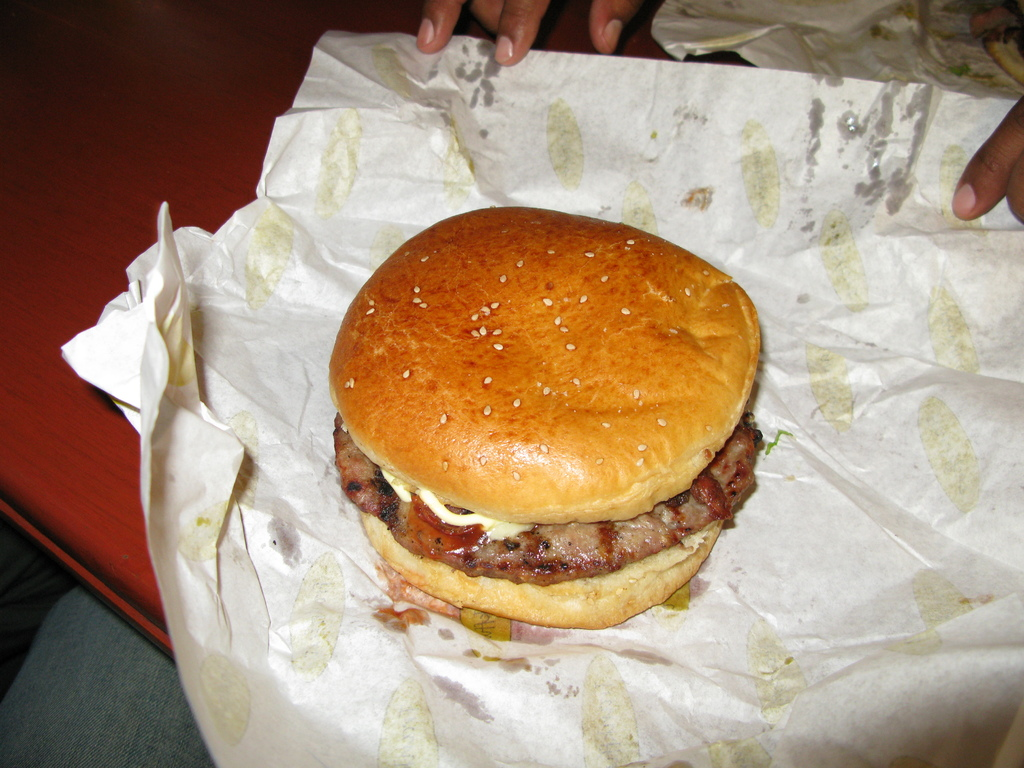Hamburger: (332, 205, 765, 628)
